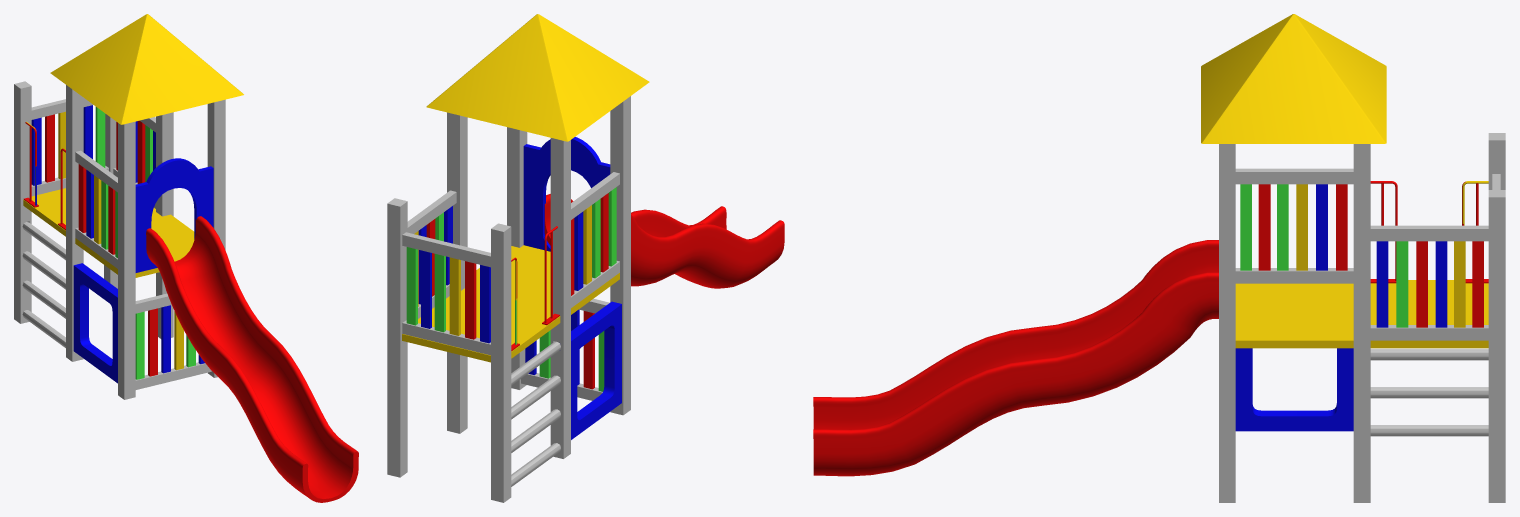
Rendered from Slide.fbx.
The picture shows the model from 3 angles, left to right: view 1: azimuth 30°, elevation 25°; view 2: azimuth 150°, elevation 25°; view 3: azimuth 270°, elevation 25°; orthographic projection. The views are drawn at different scales.
Parts seen in each view (by area): view 1: Slide; view 2: Slide; view 3: Slide.
Part boxes in pixels (x1,y1,x2,y2): Slide: [14, 14, 358, 502]; Slide: [387, 14, 784, 502]; Slide: [813, 14, 1505, 502].
Bounding box in the file's own units: 110 × 299 × 410.
